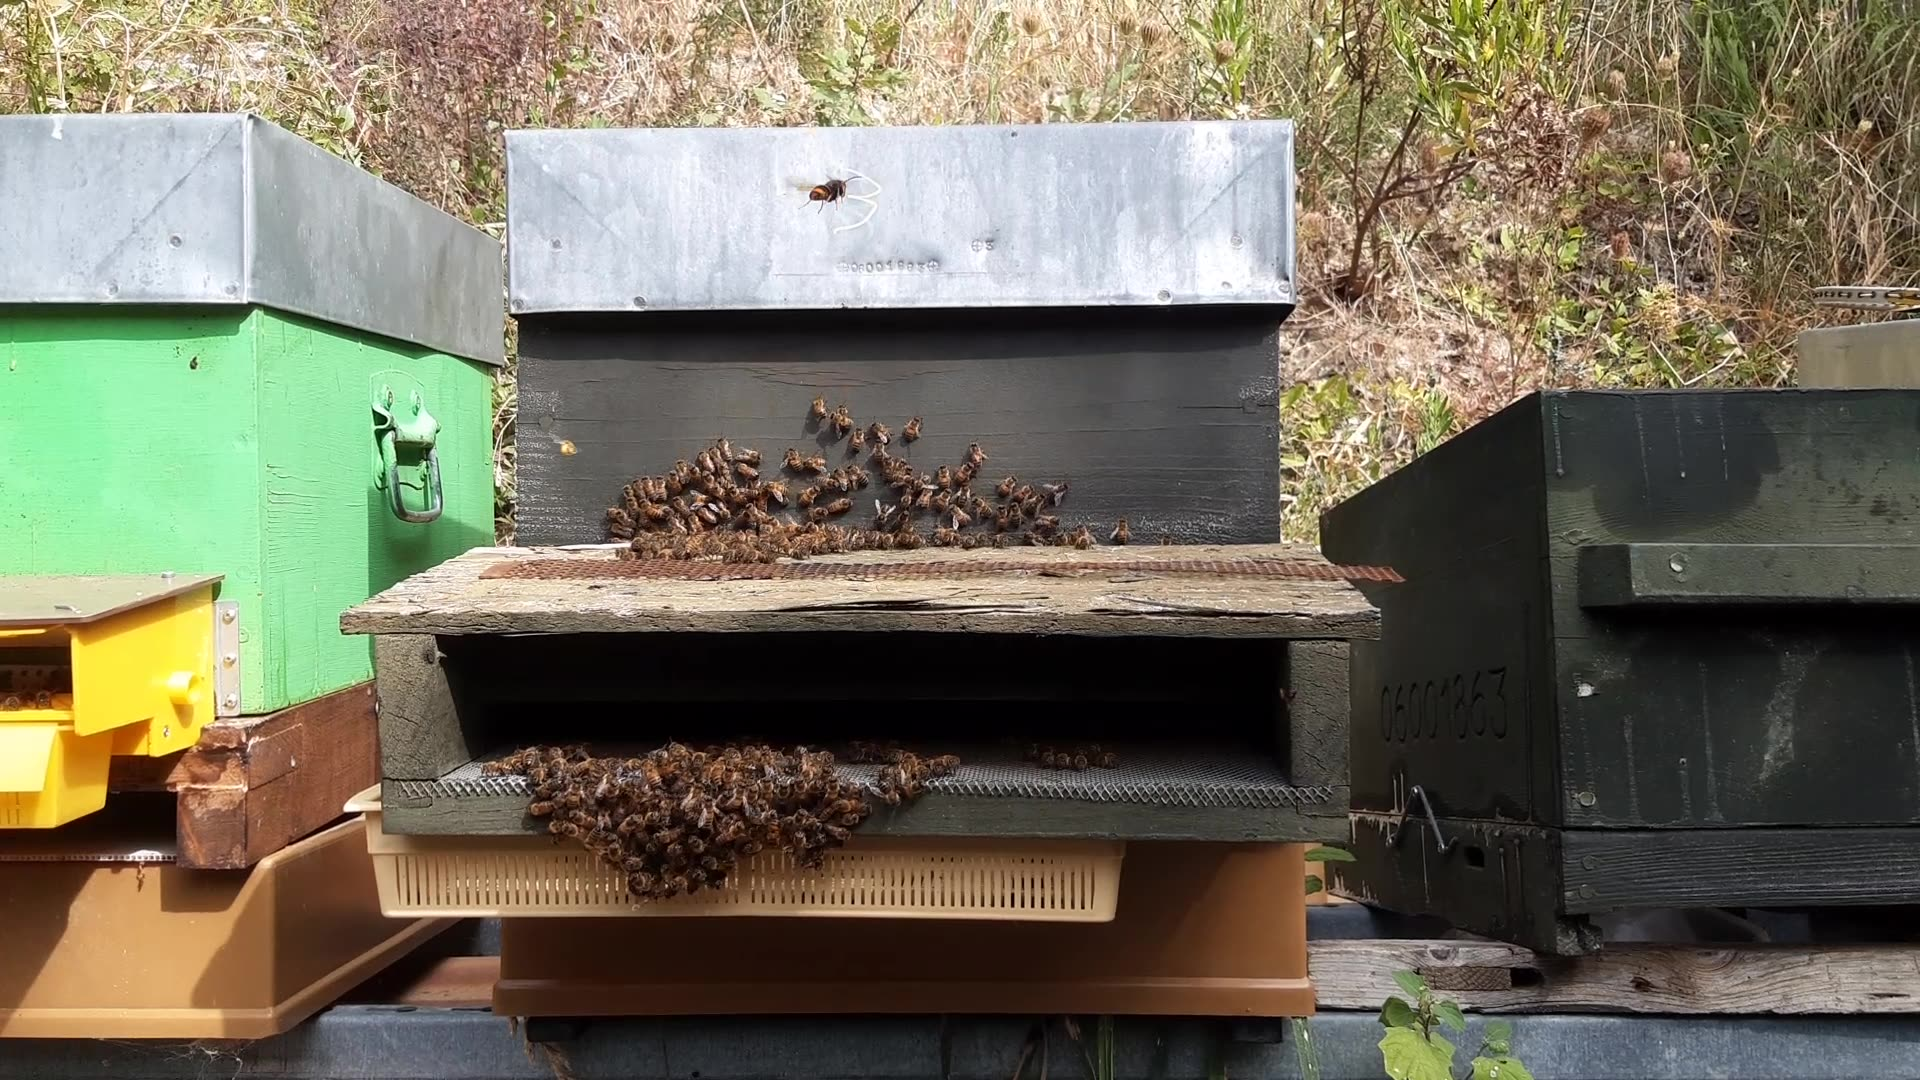bee: (851, 493, 932, 549), (484, 744, 574, 794), (1006, 498, 1087, 553), (517, 803, 585, 864), (732, 504, 825, 547), (719, 464, 790, 516), (607, 501, 678, 553), (632, 732, 713, 771), (651, 465, 713, 516), (855, 475, 913, 527), (945, 456, 1001, 509), (793, 417, 848, 462), (824, 418, 873, 465), (521, 425, 576, 465)
